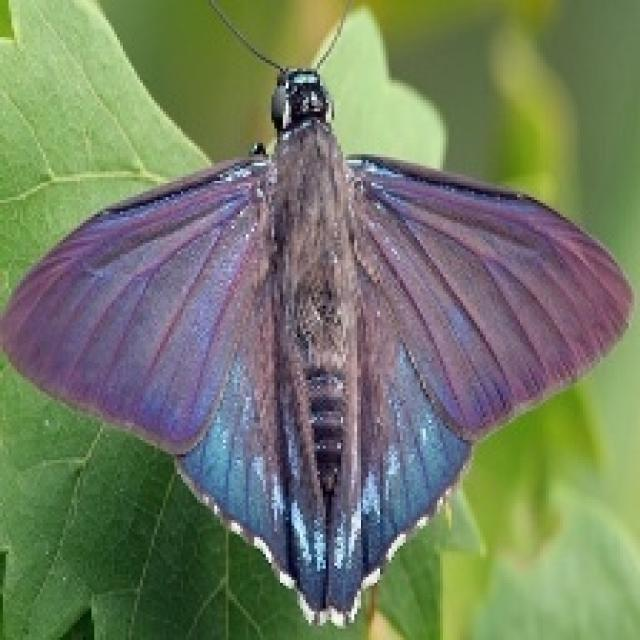butterfly: (3, 0, 631, 626)
